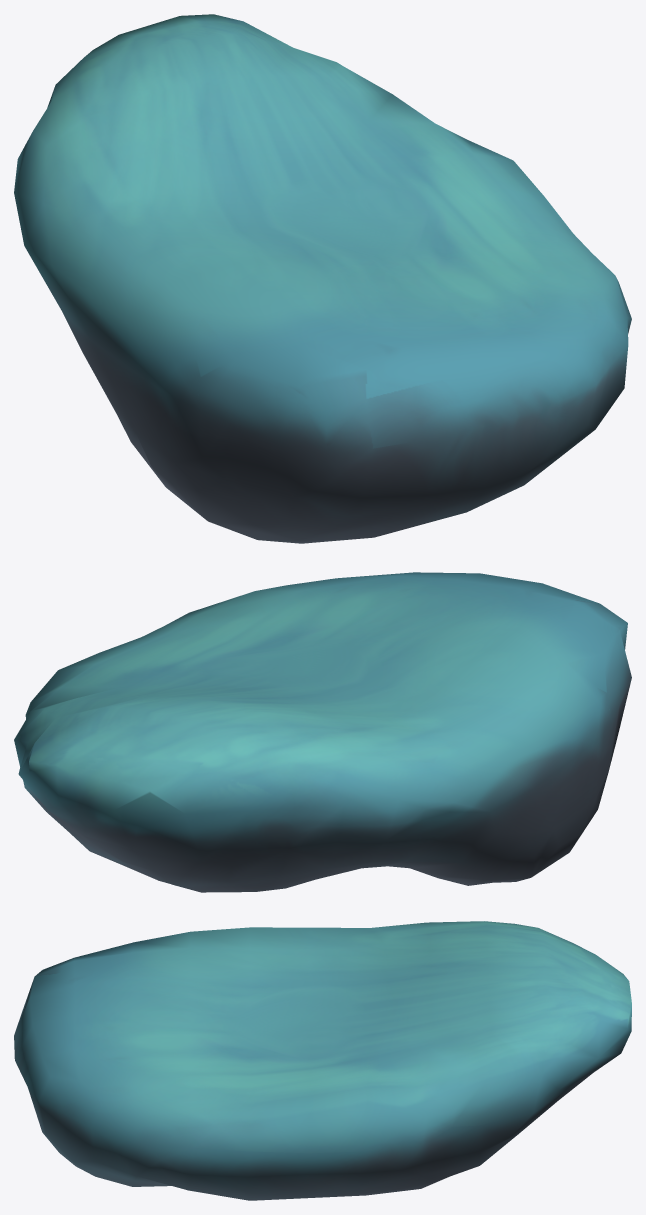
Rendered from rockplatform.fbx.
3 views of the same model, one above another, from view 1: azimuth 30°, elevation 25°; view 2: azimuth 150°, elevation 25°; view 3: azimuth 270°, elevation 25° (orthographic). The views are drawn at different scales.
Visible parts, largest first — view 1: Cube.001; view 2: Cube.001; view 3: Cube.001.
Part boxes in pixels (x1=…): Cube.001: x1=14, y1=14, x2=631, y2=543; Cube.001: x1=14, y1=572, x2=631, y2=892; Cube.001: x1=14, y1=921, x2=631, y2=1200.
Size of the model in its own units: 315 by 187 by 450.
